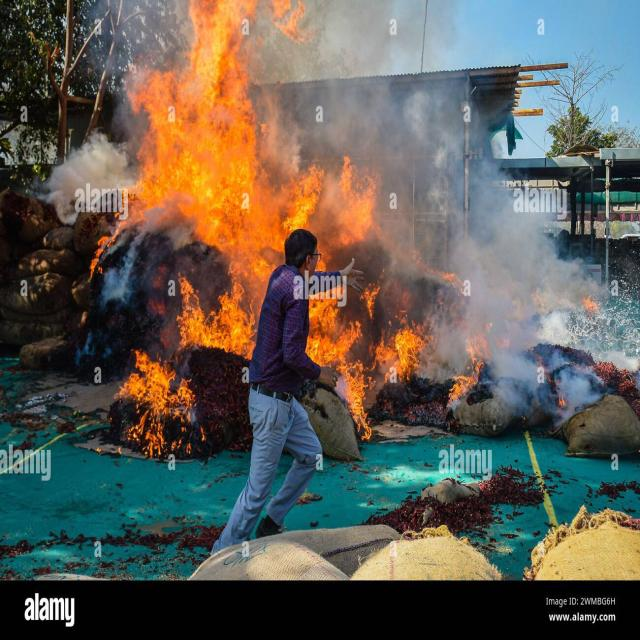fire: (122, 117, 256, 251), (127, 0, 256, 117), (113, 349, 206, 459), (259, 123, 324, 249), (178, 274, 258, 360), (307, 253, 363, 367), (325, 154, 377, 251), (368, 318, 433, 382), (229, 249, 276, 313), (339, 365, 377, 440), (411, 248, 464, 295), (88, 211, 121, 278), (271, 2, 314, 42), (465, 321, 493, 370)
